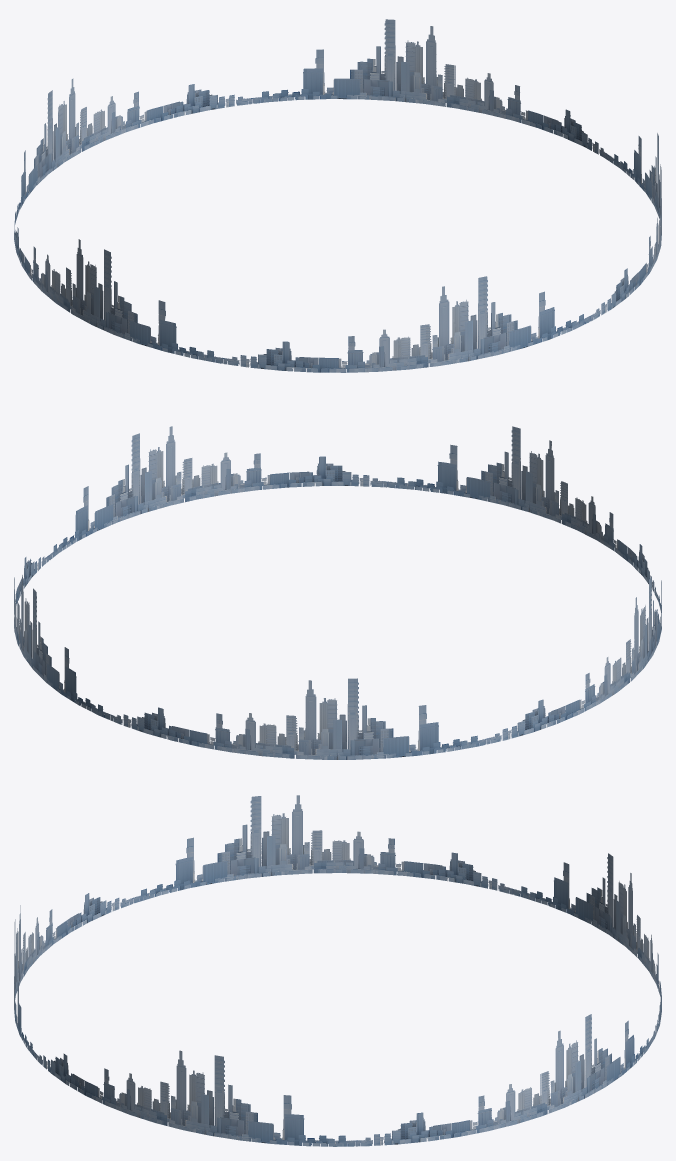
The model's file is Backcity_02.fbx.
The picture shows the model from 3 angles, top to bottom: view 1: azimuth 30°, elevation 25°; view 2: azimuth 150°, elevation 25°; view 3: azimuth 270°, elevation 25°; orthographic projection.
Visible parts, largest first — view 1: Backcity_02; view 2: Backcity_02; view 3: Backcity_02.
Boxes of the visible parts, bbox=[...] form: Backcity_02: bbox=[14, 19, 661, 372]; Backcity_02: bbox=[14, 426, 661, 759]; Backcity_02: bbox=[14, 795, 661, 1146].
Bounding box in the file's own units: 1191048 × 172178 × 1191048.
